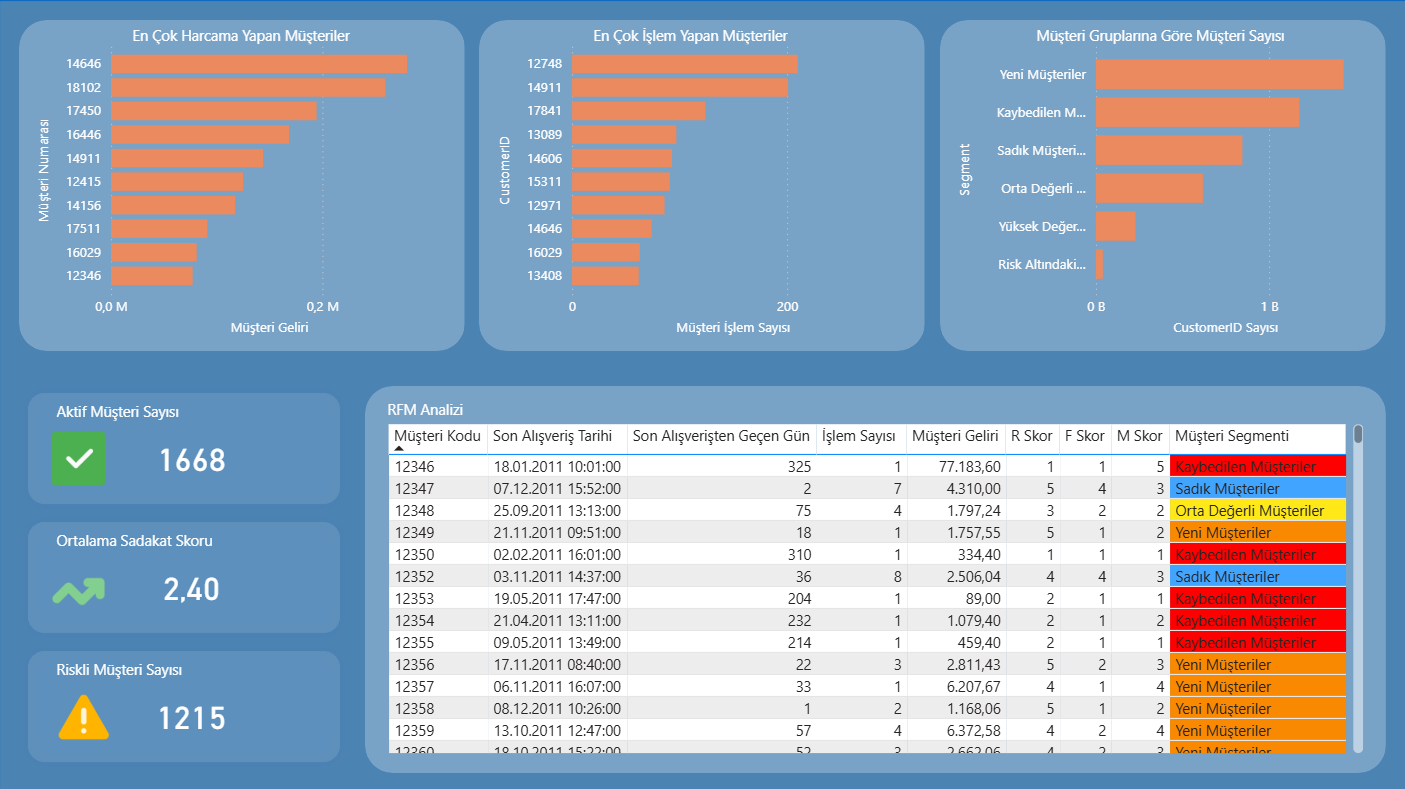

This screenshot's page, from the dashboard's own definition file:
{"tool":"powerbi","page":{"name":"Müşteri Analizi","canvas":[1280,720],"ordinal":1},"visuals":[{"type":"shape","box":[0,0,1280,720],"z":0},{"type":"shape","box":[332.7,350.9,928.2,351.8],"z":1000},{"type":"shape","box":[18.2,583.5,300,117.3],"z":2000},{"type":"shape","box":[18.2,466.3,300,117.3],"z":3000},{"type":"shape","box":[18.2,349,300,117.3],"z":4000},{"type":"shape","box":[18.2,18.2,405.5,300.9],"z":5000},{"type":"barChart","title":"En Çok Harcama Yapan Müşteriler","fields":{"Category":["Online Retail.CustomerID"],"Y":["Online Retail.Müşteri Geliri"]},"box":[30.9,28.2,379.1,281.8],"z":6000},{"type":"shape","box":[436.4,18.2,405.5,300.9],"z":7000},{"type":"barChart","title":"En Çok İşlem Yapan Müşteriler","fields":{"Category":["Online Retail.CustomerID"],"Y":["Online Retail.Müşteri İşlem Sayısı"]},"box":[450,28.2,379.1,281.8],"z":8000},{"type":"shape","box":[855.5,18.2,405.5,300.9],"z":9000},{"type":"tableEx","title":"RFM Analizi","fields":{"Values":["Musteri_Listesi.CustomerID","Musteri_Listesi.Son Alışveriş Tarihi","Musteri_Listesi.Recency (Gün)","Musteri_Listesi.Frequency","Musteri_Listesi.Monetary","Musteri_Listesi.R Skor","Musteri_Listesi.F Skor","Musteri_Listesi.M Skor","Musteri_Listesi.Segment"]},"box":[348.2,363.6,897.3,326.4],"z":10000},{"type":"barChart","title":"Müşteri Gruplarına  Göre Müşteri Sayısı","fields":{"Y":["CountNonNull(Musteri_Listesi.CustomerID)"],"Category":["Musteri_Listesi.Segment"]},"box":[868.2,27.3,379.1,282.7],"z":11000},{"type":"card","title":"Aktif Müşteri Sayısı","fields":{"Values":["Musteri_Listesi.Aktif Musteri Sayisi"]},"box":[47.3,365.4,255.5,84.5],"z":12000},{"type":"card","title":"Ortalama Sadakat Skoru","fields":{"Values":["Musteri_Listesi.Ortalama Sadakat Skoru"]},"box":[47.3,482.6,255.5,84.5],"z":13000},{"type":"card","title":"Riskli Müşteri Sayısı","fields":{"Values":["Musteri_Listesi.Riskli Musteri Sayisi"]},"box":[47.3,599.9,255.5,84.5],"z":14000},{"type":"textbox","box":[116.4,18.2,208.2,27.3],"z":15000},{"type":"textbox","box":[535.5,18.2,208.2,27.3],"z":16000},{"type":"textbox","box":[938.2,18.2,240,27.3],"z":17000},{"type":"image","box":[47.3,391.8,50,50],"z":18000},{"type":"image","box":[44.5,620,65.5,64.5],"z":19000},{"type":"image","box":[47.3,512.7,50,50],"z":20000}]}

Visuals, with their boxes in screenshot pixels (x1, y1, x2, y2), scaled from the page's 1280x720 canvas onto the 1405x789 screenshot:
shape: bbox(0, 0, 1404, 788)
shape: bbox(365, 385, 1384, 770)
shape: bbox(20, 639, 349, 768)
shape: bbox(20, 511, 349, 640)
shape: bbox(20, 382, 349, 511)
shape: bbox(20, 20, 465, 350)
"En Çok Harcama Yapan Müşteriler" barChart: bbox(34, 31, 450, 340)
shape: bbox(479, 20, 924, 350)
"En Çok İşlem Yapan Müşteriler" barChart: bbox(494, 31, 910, 340)
shape: bbox(939, 20, 1384, 350)
"RFM Analizi" tableEx: bbox(382, 398, 1367, 756)
"Müşteri Gruplarına  Göre Müşteri Sayısı" barChart: bbox(953, 30, 1369, 340)
"Aktif Müşteri Sayısı" card: bbox(52, 400, 332, 493)
"Ortalama Sadakat Skoru" card: bbox(52, 529, 332, 621)
"Riskli Müşteri Sayısı" card: bbox(52, 657, 332, 750)
textbox: bbox(128, 20, 356, 50)
textbox: bbox(588, 20, 816, 50)
textbox: bbox(1030, 20, 1293, 50)
image: bbox(52, 429, 107, 484)
image: bbox(49, 679, 121, 750)
image: bbox(52, 562, 107, 617)
